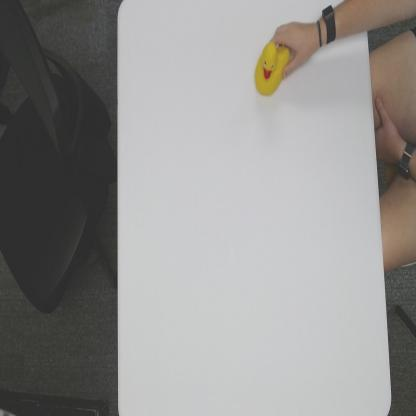Arm: (336, 0, 368, 39)
Duck: (254, 39, 291, 100)
Hand: (272, 20, 318, 80)
